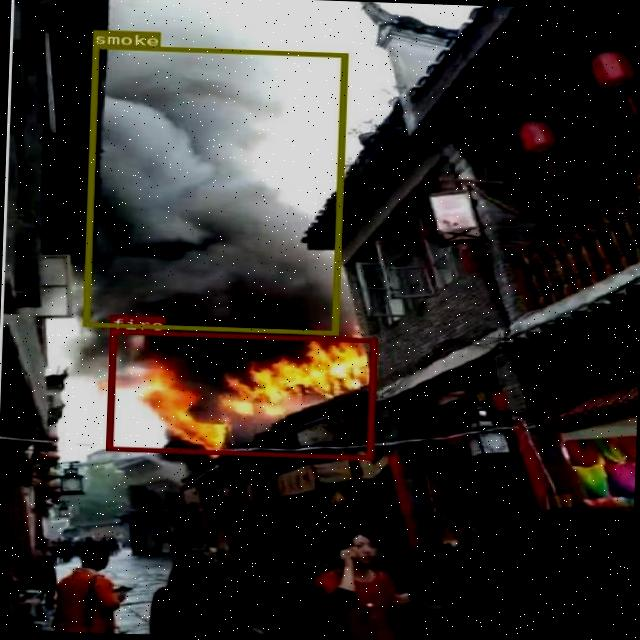fire: (104, 328, 376, 458)
smoke: (81, 44, 346, 334)
